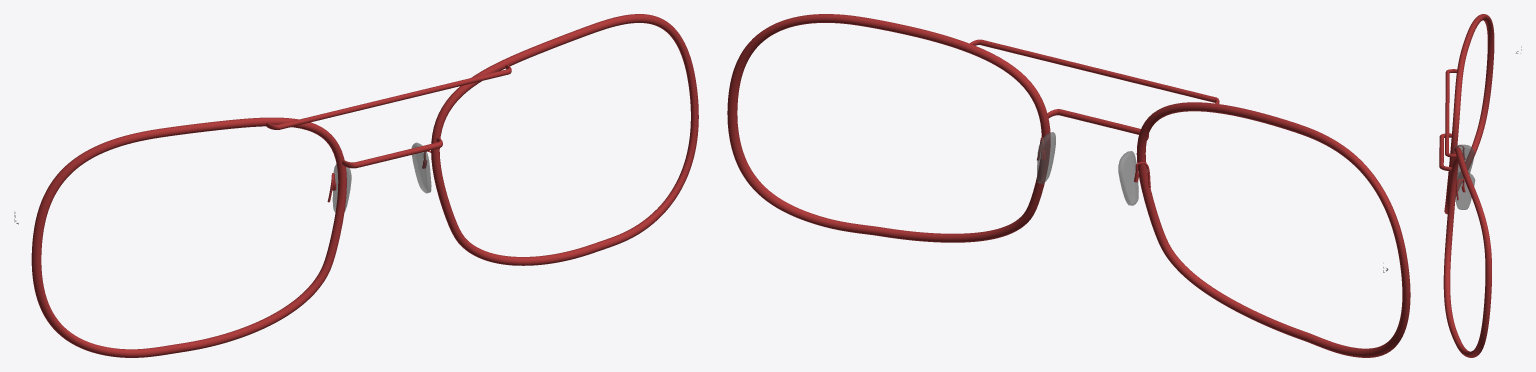
The model's file is custom-frame-2.gltf.
The picture shows the model from 3 angles, left to right: view 1: azimuth 30°, elevation 25°; view 2: azimuth 150°, elevation 25°; view 3: azimuth 270°, elevation 25°; orthographic projection. The views are drawn at different scales.
Visible parts, largest first — view 1: BezierCurve, Cylinder, Cylinder.002, Cylinder.001; view 2: BezierCurve, Cylinder, Cylinder.002, Cylinder.001; view 3: BezierCurve, Cylinder.002, Cylinder, Cylinder.001, BezierCurve.002.
Boxes of the visible parts, bbox=[...] form: BezierCurve: bbox=[31, 14, 698, 357]; Cylinder: bbox=[266, 64, 511, 129]; Cylinder.002: bbox=[332, 142, 431, 212]; Cylinder.001: bbox=[342, 137, 442, 168]; BezierCurve: bbox=[727, 14, 1410, 357]; Cylinder: bbox=[970, 39, 1219, 103]; Cylinder.002: bbox=[1037, 132, 1138, 205]; Cylinder.001: bbox=[1047, 109, 1148, 140]; BezierCurve: bbox=[1443, 14, 1494, 357]; Cylinder.002: bbox=[1453, 144, 1475, 209]; Cylinder: bbox=[1445, 69, 1457, 158]; Cylinder.001: bbox=[1439, 133, 1451, 171]; BezierCurve.002: bbox=[1456, 145, 1465, 200].
Size of the model in its own units: 0.9896 by 0.3105 by 0.1452.
